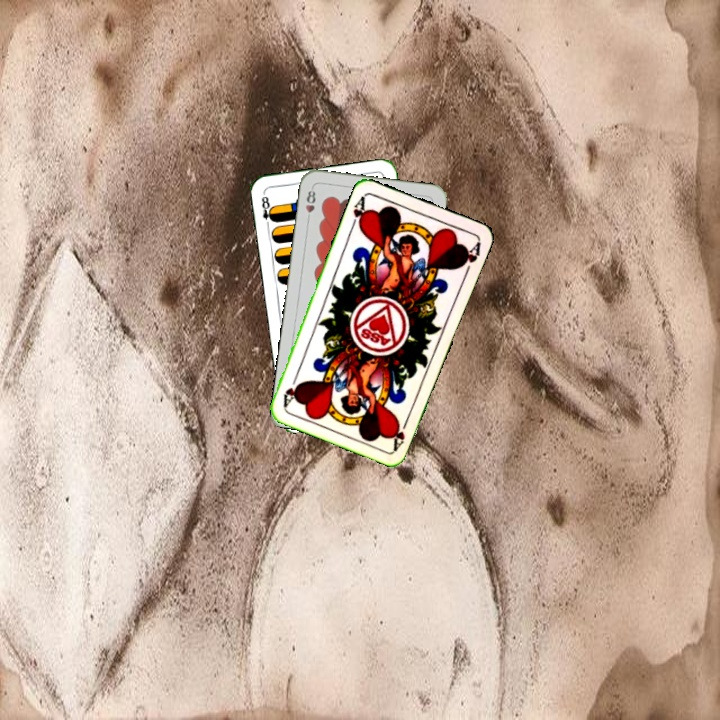E8: (257, 189, 277, 230)
H8: (302, 184, 318, 224)
HA: (347, 192, 370, 231), (388, 413, 411, 452)
